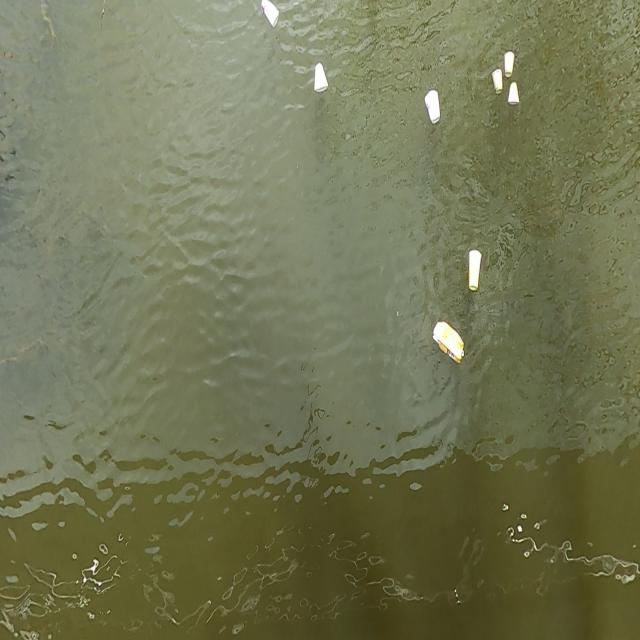Autre plastique: (468, 250, 481, 289), (425, 90, 440, 122), (262, 0, 279, 27), (315, 62, 327, 92), (492, 68, 503, 92), (509, 82, 520, 105), (505, 52, 514, 77)
Non plastique: (434, 320, 463, 363)
